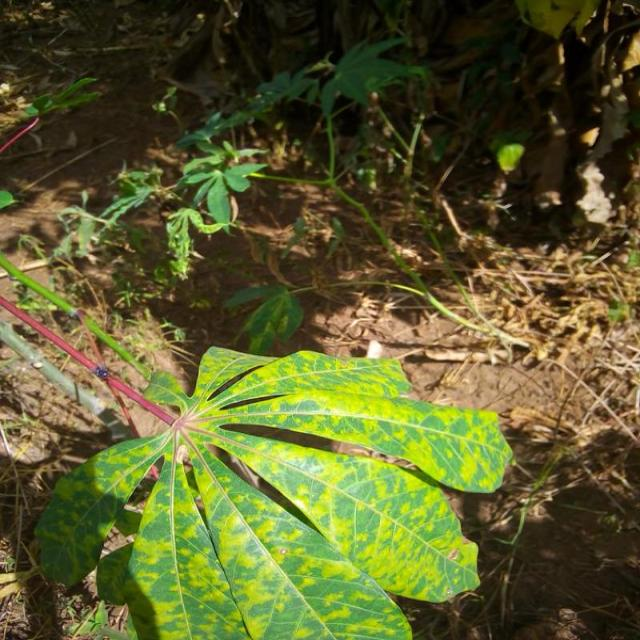cassava leaf: (35, 343, 514, 638)
